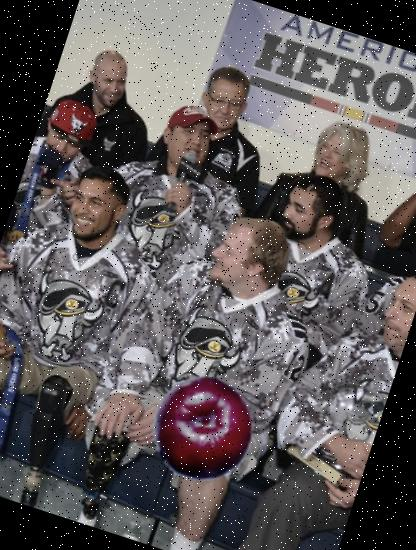Plum: (136, 361, 270, 496)
